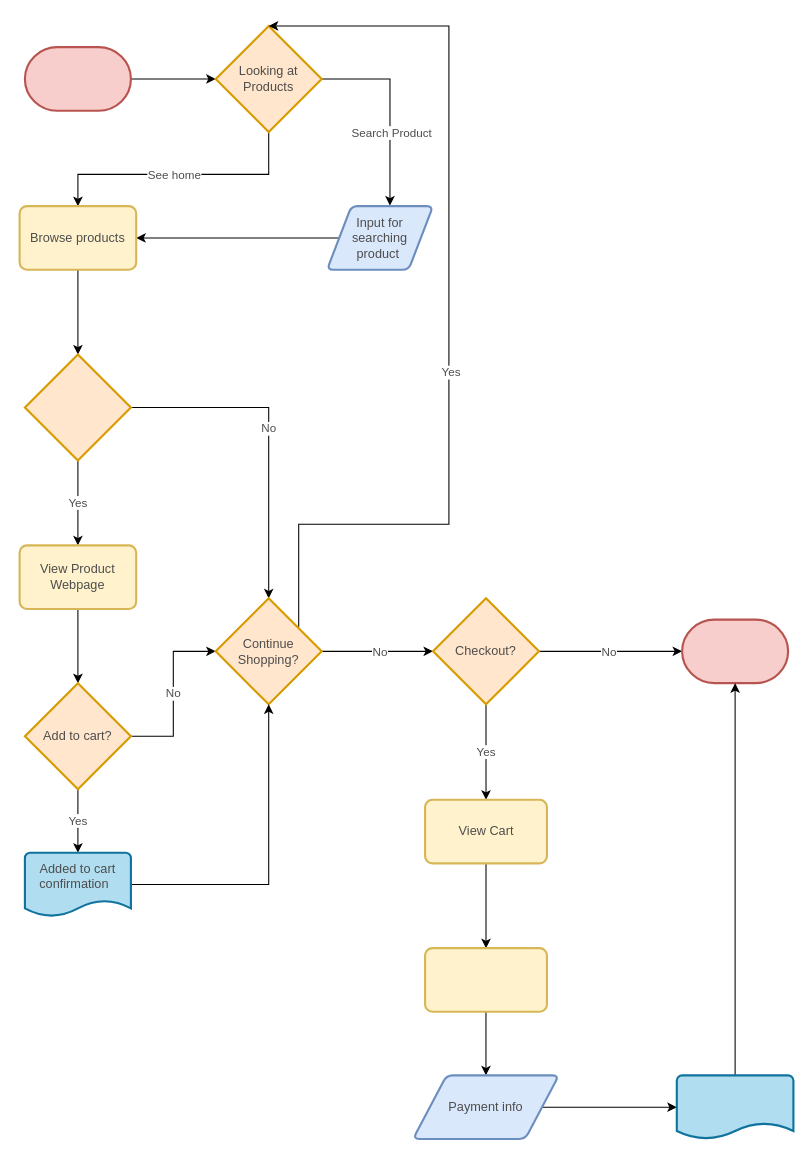
Image size: 812x1159. Some labels were removed from this diagram. The shapes that lost their labels are listed below. From the top down, each one's centre as x and y in pixels, then its label:
At point (77, 78): "Enter Website".
At point (77, 407): "View Product".
At point (735, 651): "Leave site".
At point (485, 979): "View Payment".
At point (734, 1107): "Order Confirmation + email".
